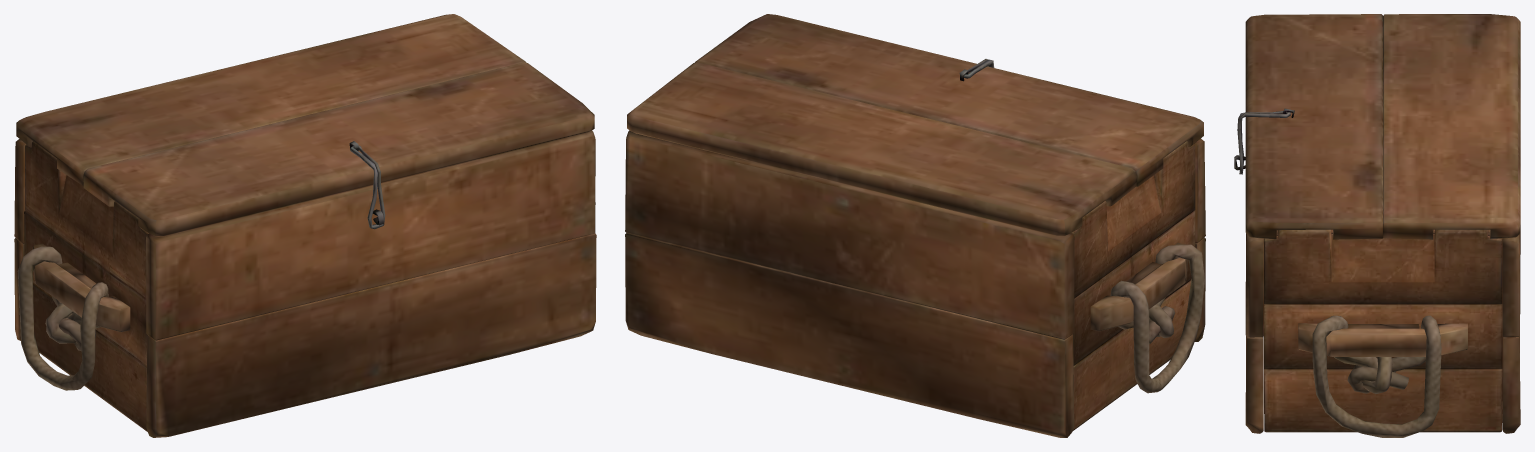
The model's file is wooden_crate_01.glb.
The picture shows the model from 3 angles, left to right: view 1: azimuth 30°, elevation 25°; view 2: azimuth 150°, elevation 25°; view 3: azimuth 270°, elevation 25°; orthographic projection. The views are drawn at different scales.
Parts seen in each view (by area): view 1: wooden_crate_01_lid; view 2: wooden_crate_01_lid; view 3: wooden_crate_01_lid.
Boxes of the visible parts, x1,y1,x2,y2 form: wooden_crate_01_lid: [14, 14, 596, 437]; wooden_crate_01_lid: [625, 14, 1205, 437]; wooden_crate_01_lid: [1234, 14, 1520, 437].
Size of the model in its own units: 0.8245 by 0.3486 by 0.407.
Materials: 1 (1 with a texture image).
